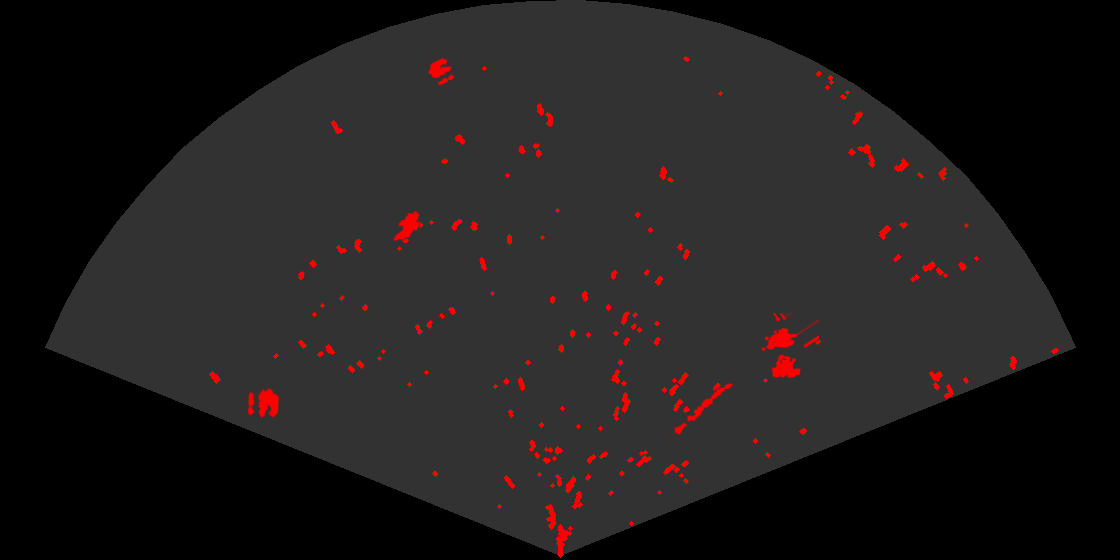AUV: (392, 209, 422, 243)
ball: (246, 387, 281, 420), (427, 56, 456, 87)
cage: (760, 313, 819, 380)
chain: (665, 381, 734, 440)
